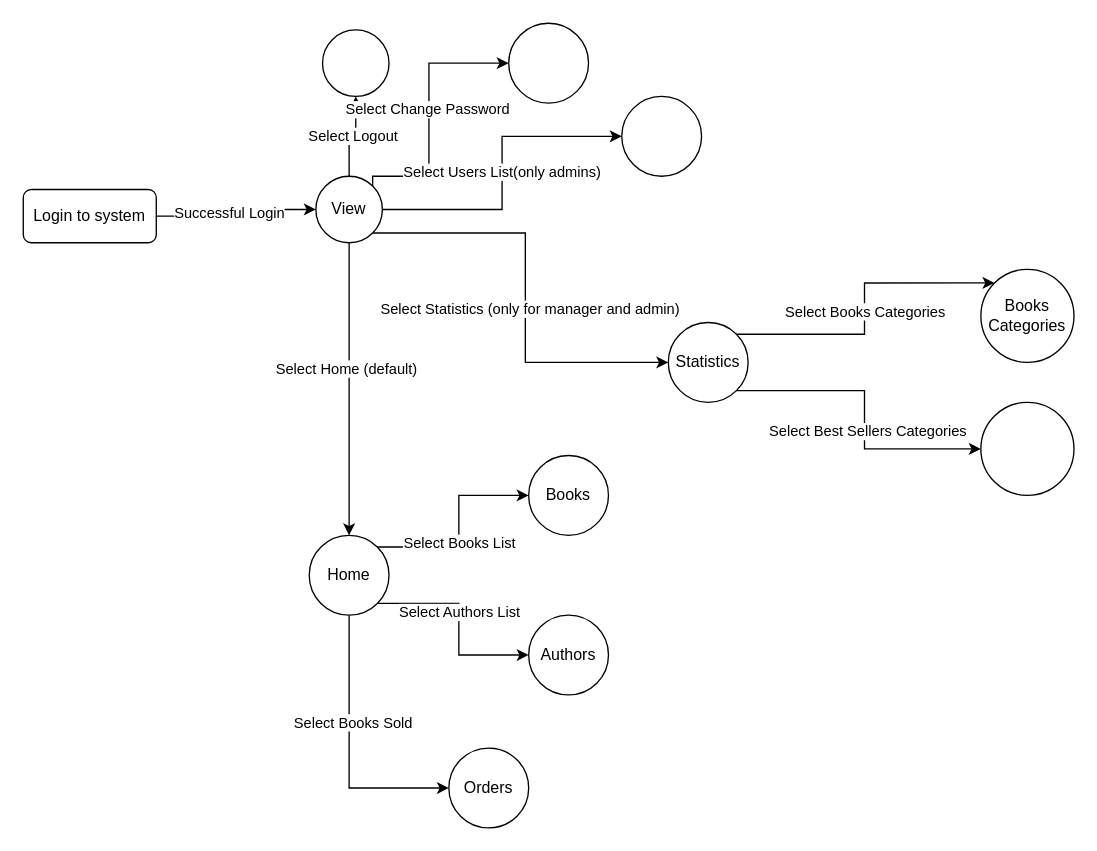
Some shapes in this 1097 by 851 pixel diagram are drawn without their labels. The box of each missing label's shape, as (x1, y1, x2, y2) in pixels:
Best Sellers Categories: (980, 401, 1074, 495)
Change Password: (507, 22, 589, 103)
Logout: (321, 29, 389, 96)
Users: (620, 95, 702, 176)
